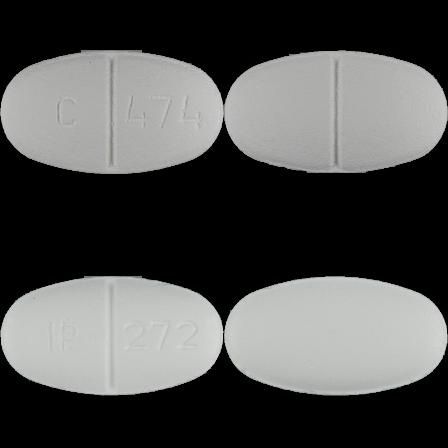33261-145: (0, 0, 224, 224)
